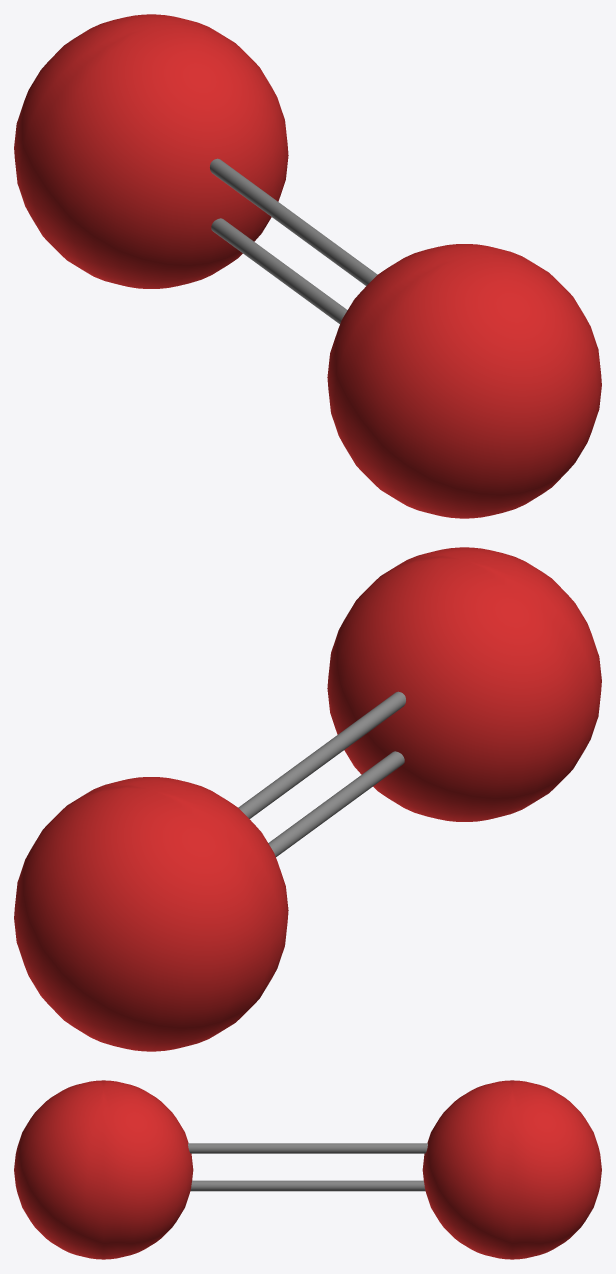
Rendered from oxygen.fbx.
3 views of the same model, one above another, from view 1: azimuth 30°, elevation 25°; view 2: azimuth 150°, elevation 25°; view 3: azimuth 270°, elevation 25° (orthographic). The views are drawn at different scales.
Visible parts, largest first — view 1: Cylinder; view 2: Cylinder; view 3: Cylinder.
Boxes of the visible parts, <box> form: Cylinder: <box>14,14,601,518</box>; Cylinder: <box>14,547,601,1051</box>; Cylinder: <box>14,1080,601,1259</box>.
Bounding box in the file's own units: 200 × 200 × 656.
